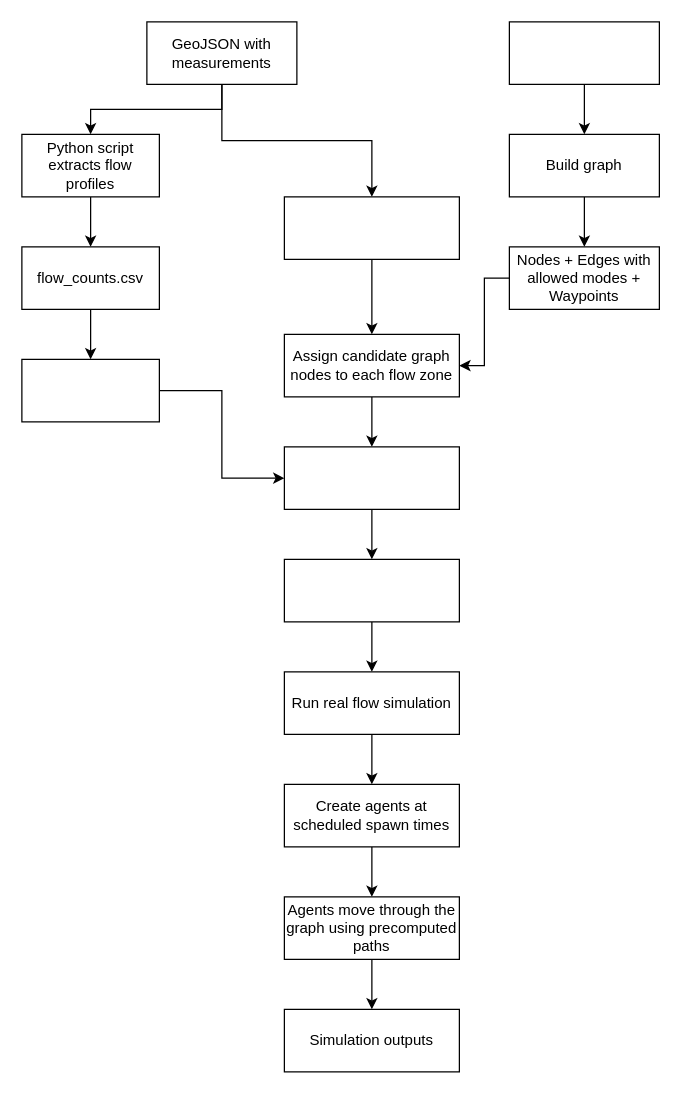
Image size: 681x1094. Some labels were removed from this diagram. Each missing label, with the box of its shape:
Generate scheduled trips: (283, 558, 459, 622)
GIS shapefiles: (508, 21, 659, 84)
NetLogo loads flow counts from CSV: (21, 358, 159, 422)
NetLogo loads measurement points as flow zones: (283, 196, 459, 259)
Precompute valid zone to zone routes: (283, 446, 459, 509)
